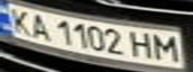0: (84, 24, 106, 53)
1: (48, 17, 75, 46), (66, 20, 87, 48)
2: (103, 26, 127, 56)
A: (24, 11, 54, 42)
H: (127, 29, 157, 60)
K: (3, 6, 36, 35)
M: (148, 33, 184, 62)
